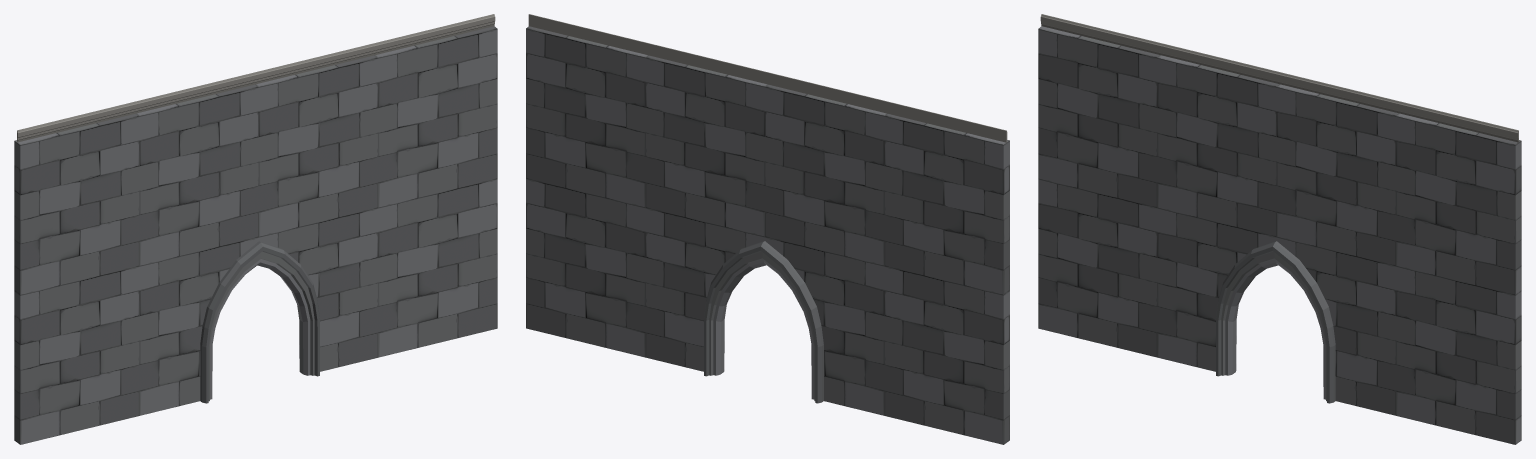
File: crypt_wall_c.gltf
3 renders of one model, left to right at view 1: azimuth 30°, elevation 25°; view 2: azimuth 150°, elevation 25°; view 3: azimuth 330°, elevation 25°, orthographic.
Parts seen in each view (by area): view 1: crypt_wall_c; view 2: crypt_wall_c; view 3: crypt_wall_c.
Part boxes in pixels (x1,y1,x2,y2): crypt_wall_c: (14, 14, 497, 444); crypt_wall_c: (526, 14, 1009, 444); crypt_wall_c: (1038, 14, 1521, 444).
Size of the model in its own units: 10 by 6.24 by 0.5226.
2 materials, 2 textured.
